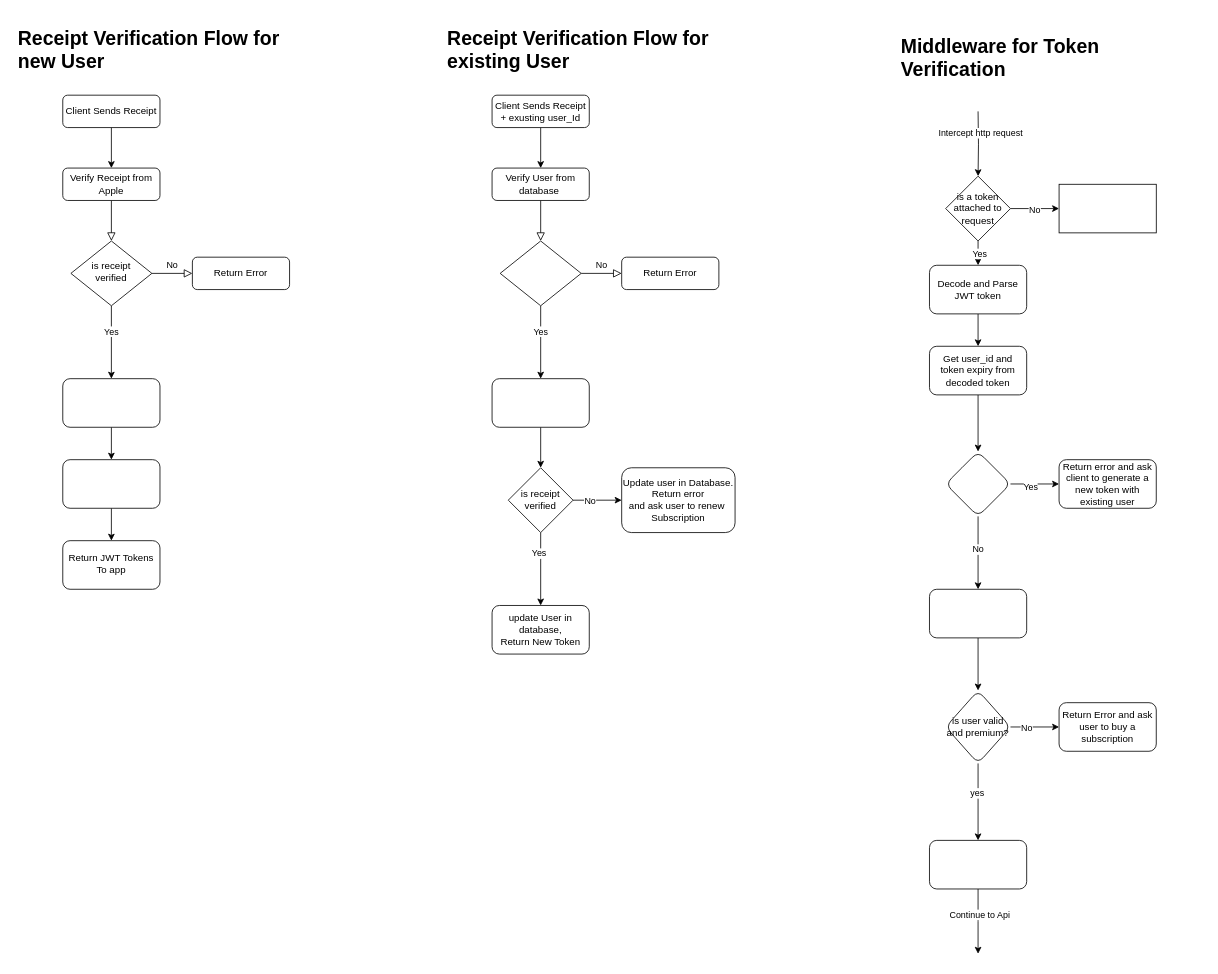
Some shapes in this 1218 by 974 pixel diagram are drawn without their labels. The centre of each missing label's shape, as x and y in pixels:
"Create access and refresh JWT tokens with expiry for user" belongs at point (111, 483).
"Create New User in Database" belongs at point (111, 402).
"Does User Exist in Database" belongs at point (540, 273).
"is Expired" belongs at point (977, 483).
"Return Error Unauthorized" belongs at point (1107, 208).
"Update user Quota" belongs at point (978, 864).
"Verify user from Db" belongs at point (978, 613).
"Verify User Receipt from Apple" belongs at point (540, 402).
